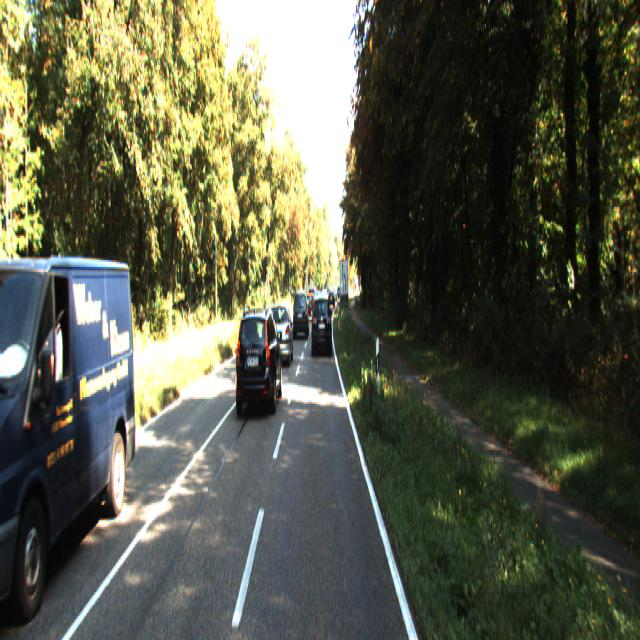Car: (235, 302, 282, 418), (269, 300, 293, 366), (311, 290, 331, 352), (292, 288, 308, 335)
Van: (0, 241, 142, 630)
